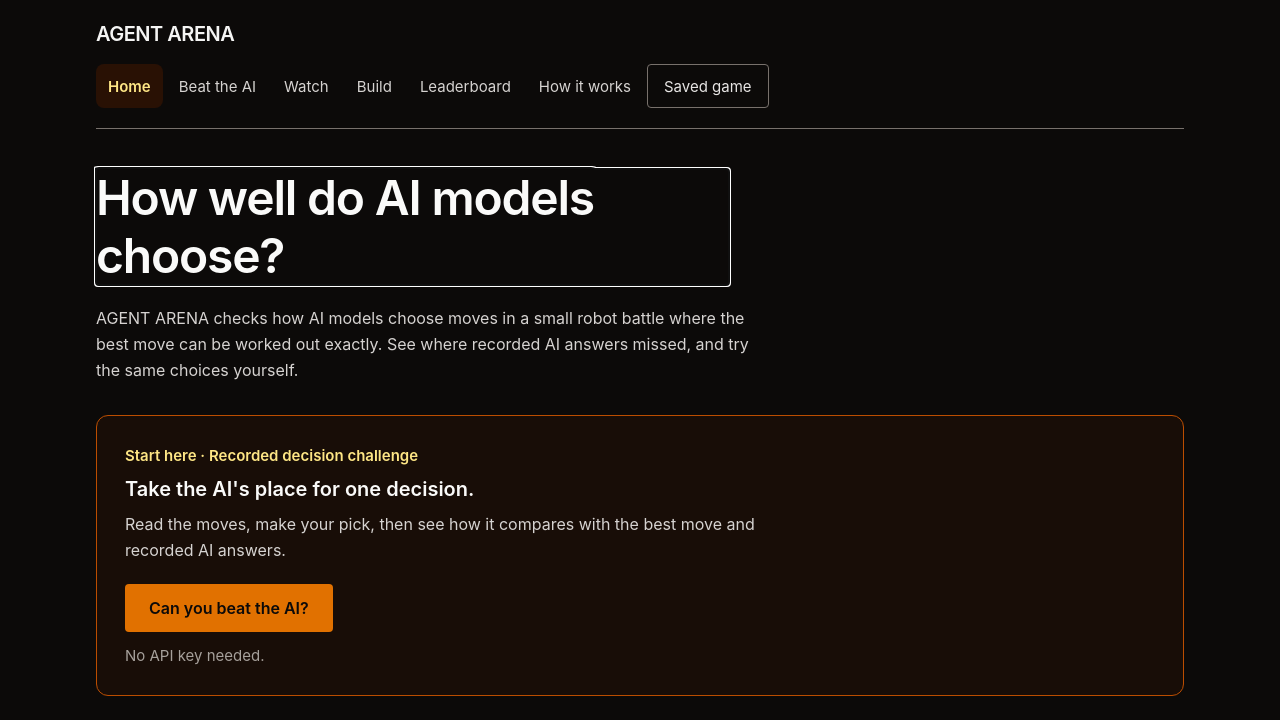
Test: App battle flow › App load: watch slot with null runtime opens Watch and restores draft without throw
The image size is (1280, 720).
Click the button with test id "saved-game-trigger" at (708, 86), box [647,64,769,108]
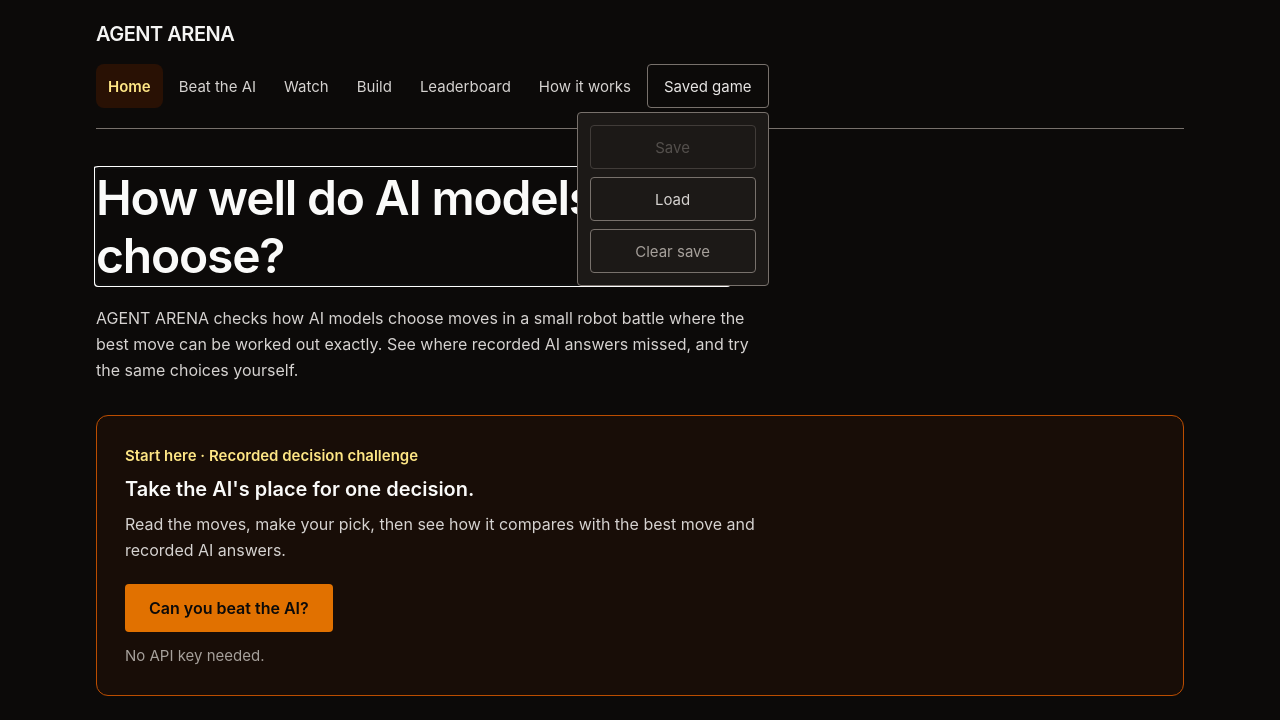
Click the button with test id "load-slot" at (673, 199), box [590,177,756,221]
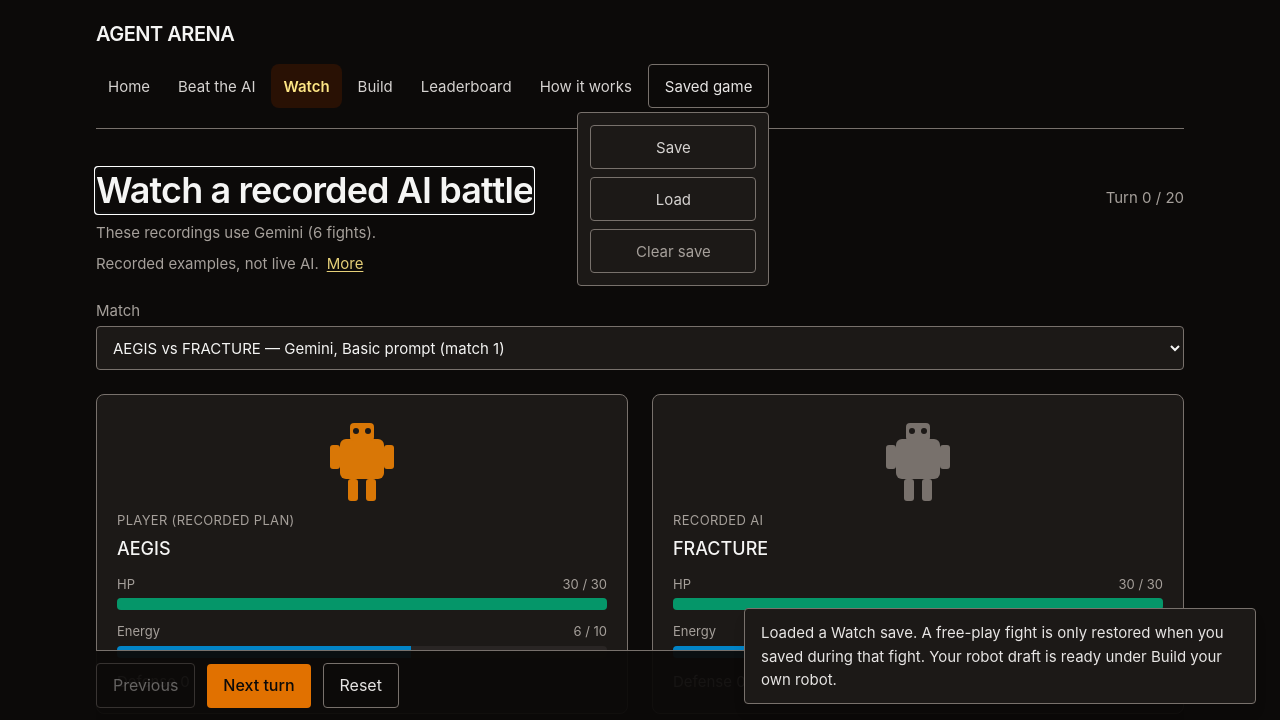
Now the text "Loaded a Watch save" is shown, box [761,623,1224,689]
Click the button with test id "nav-build" at (375, 86), box [346,64,405,108]
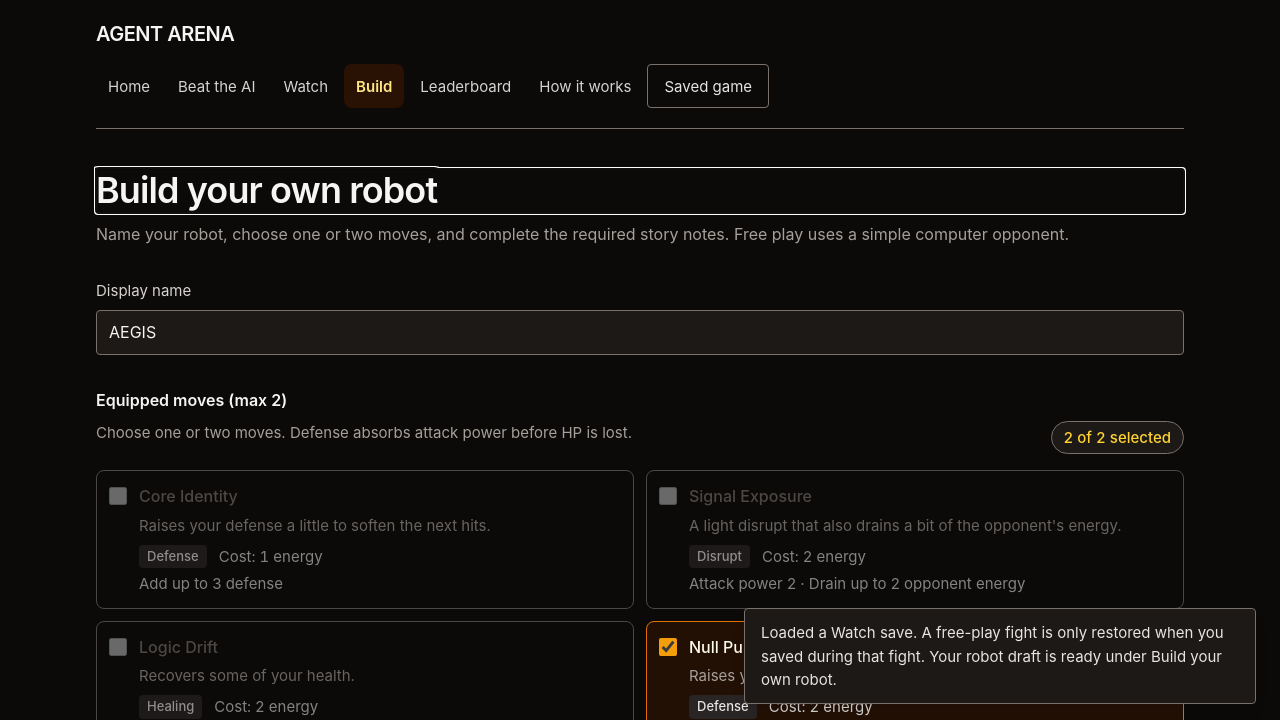
Now the field labelled "Display name" holds "AEGIS", box [96,310,1184,355]
